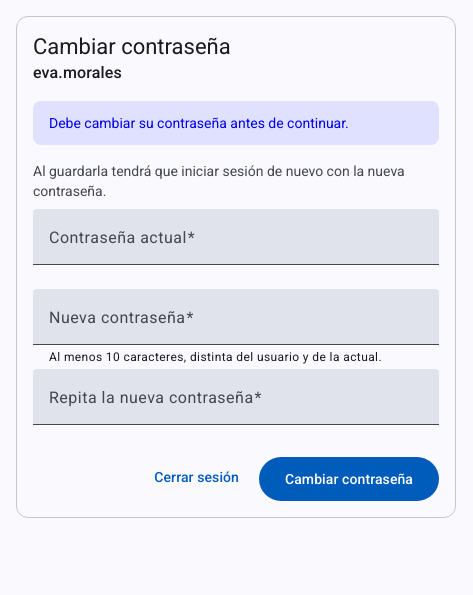
Test: CambiarPasswordComponent › muestra los mensajes del backend si la rechaza
This screenshot has width=473, height=595.
Type "equivocada-123" into the password field labelled "Contraseña actual". click: (236, 245)
box: 49,233 -> 423,257
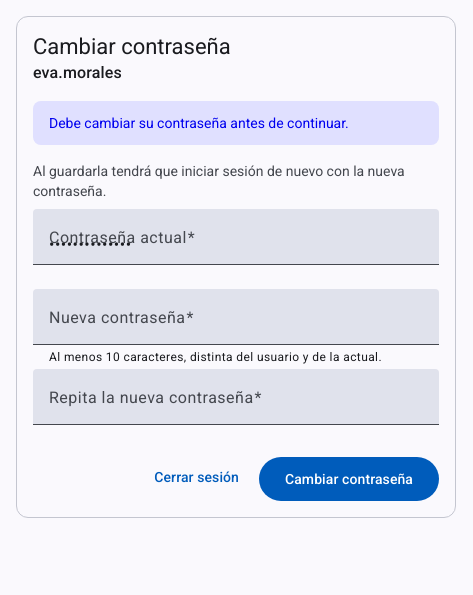
Type "definitiva-12345" into the password field labelled "Nueva contraseña". click: (236, 325)
box: 49,313 -> 423,337
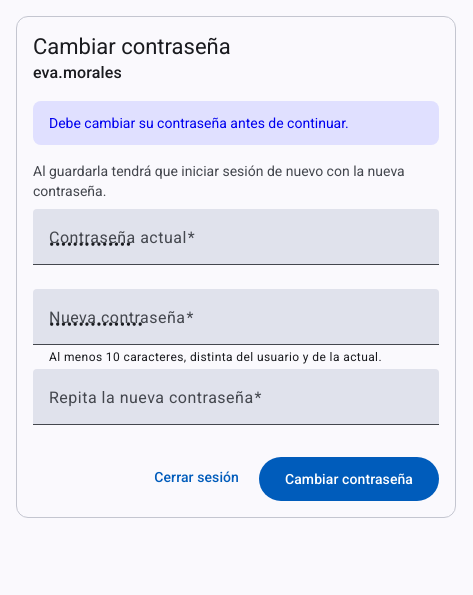
Type "definitiva-12345" into the password field labelled "Repita la nueva contraseña". click: (236, 405)
box: 49,393 -> 423,417
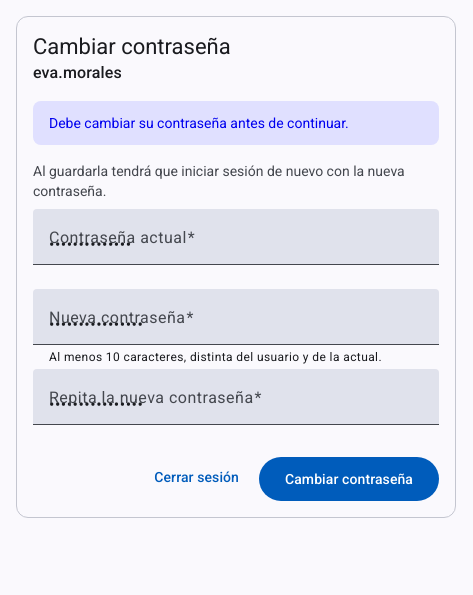
Click the submit button. click: (349, 479)
box: 259,457 -> 439,501
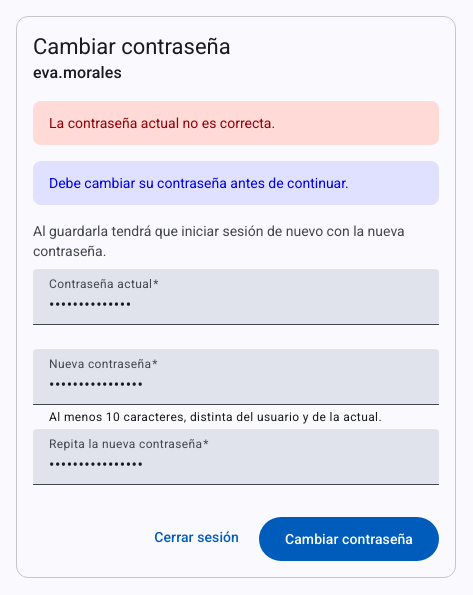
Check: the submit button is enabled, box 259,517 -> 439,561
Check: the text "La contraseña actual no es correcta." is shown, box 49,115 -> 275,131
